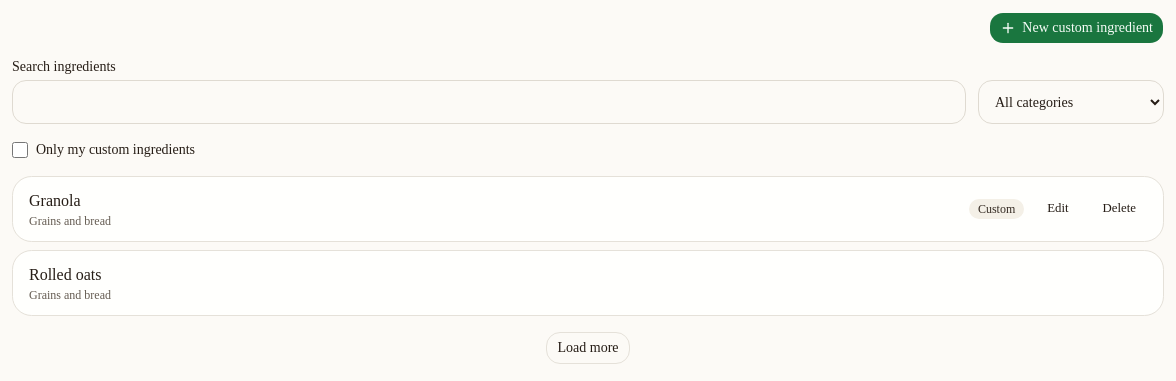
Test case: CustomIngredientsPage listing › shows only my custom ingredients on request, loading every page to find them
Expected: the text "Rolled oats" is shown, [29,266,101,283]
Step 1. Click the checkbox labelled "Only my custom ingredients" → (20, 150), box [12,142,28,158]
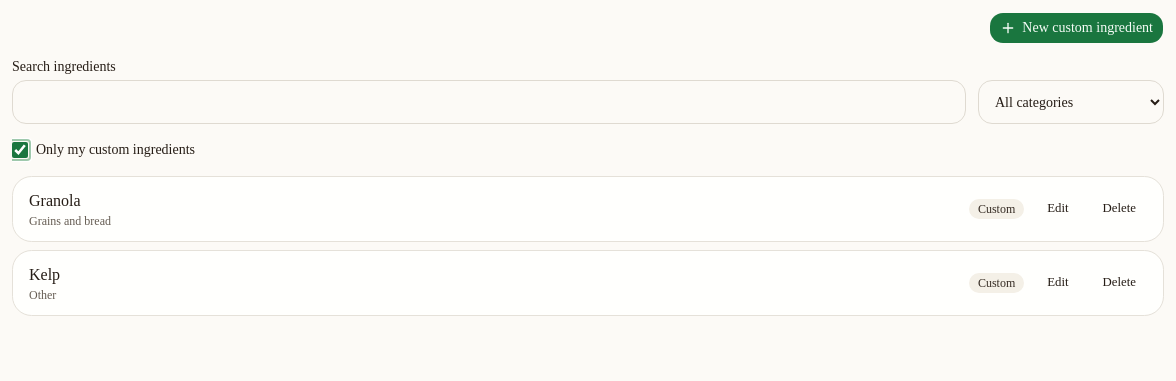
Expected: the text "Granola" is shown, [29,192,80,209]
Expected: the text "Kelp" is shown, [29,266,60,283]
Expected: the text "Rolled oats" is gone
